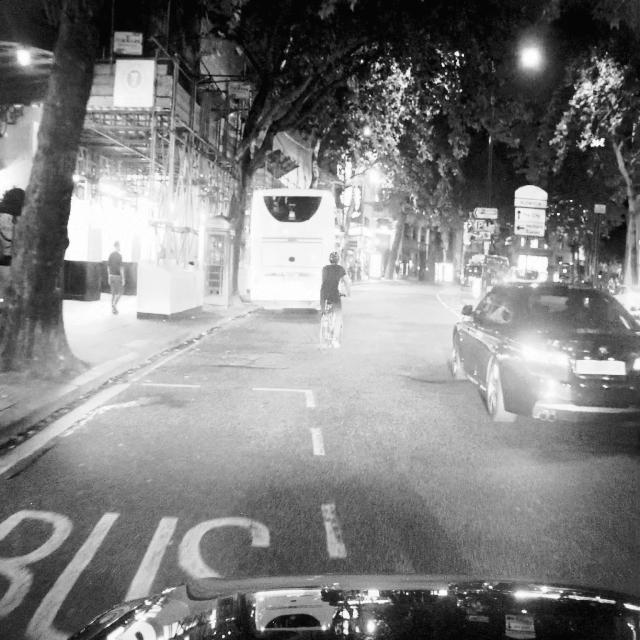Tree: (0, 2, 104, 394)
